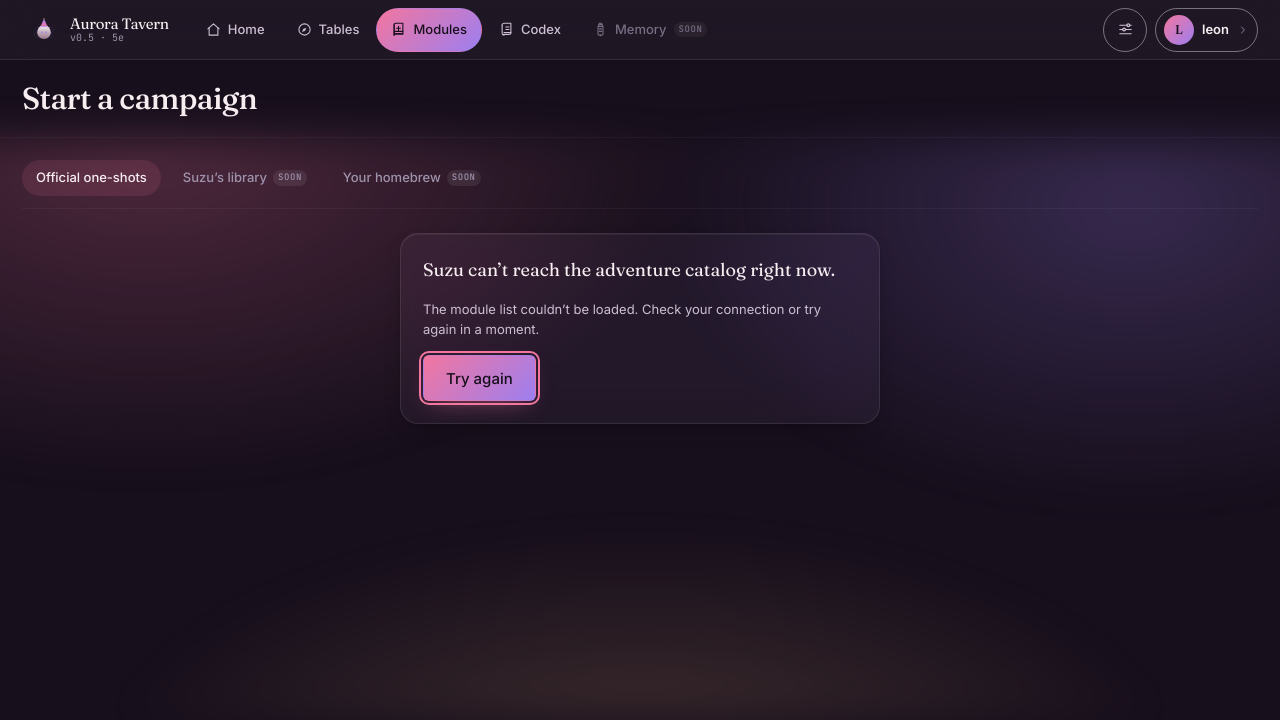
Scenario: retry re-fetches the catalog and shows the grid on success
Note: Wait for error state.
Step 1. Click the button "Try again" → (479, 378), box left=423, top=355, right=536, bottom=401
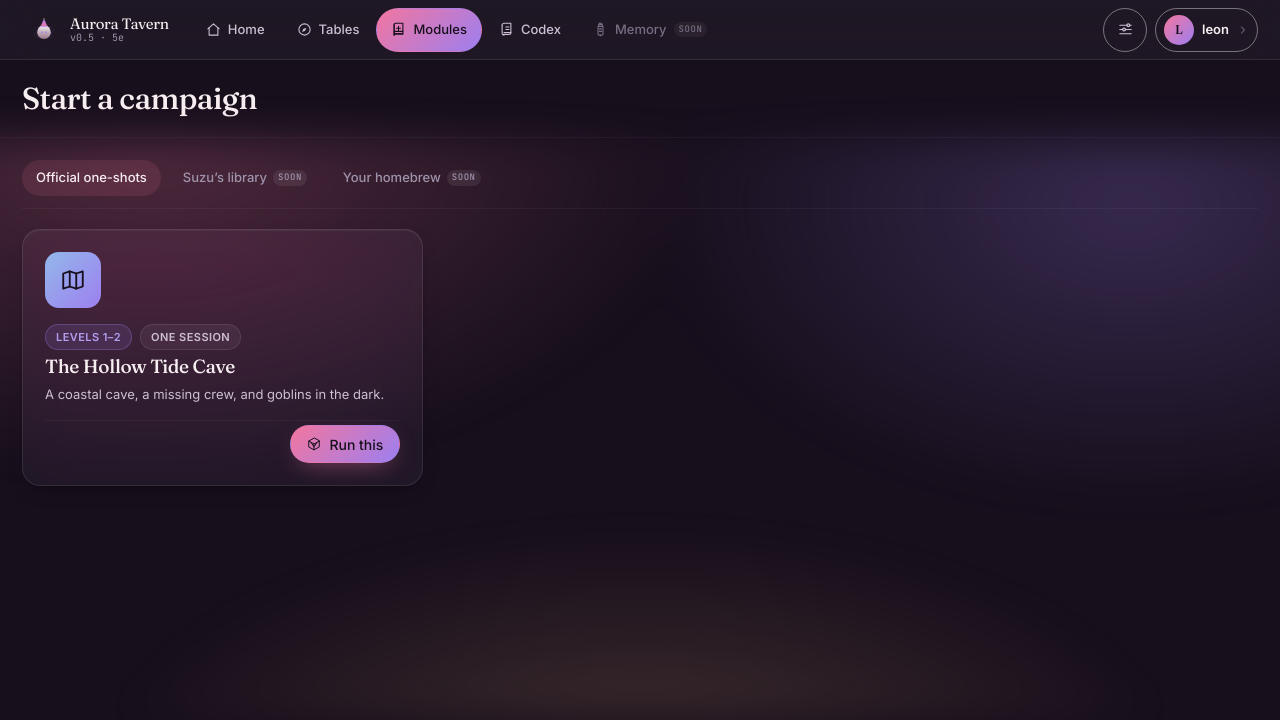
Expected: the heading "The Hollow Tide Cave" is shown, left=45, top=354, right=235, bottom=378
